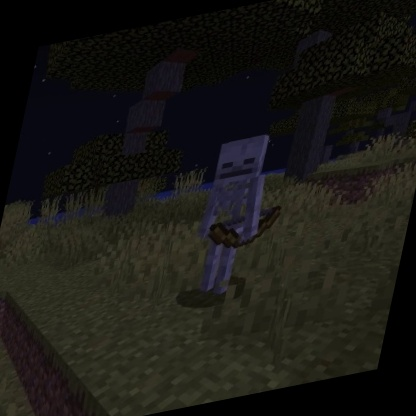skeleton: (178, 123, 302, 305)
